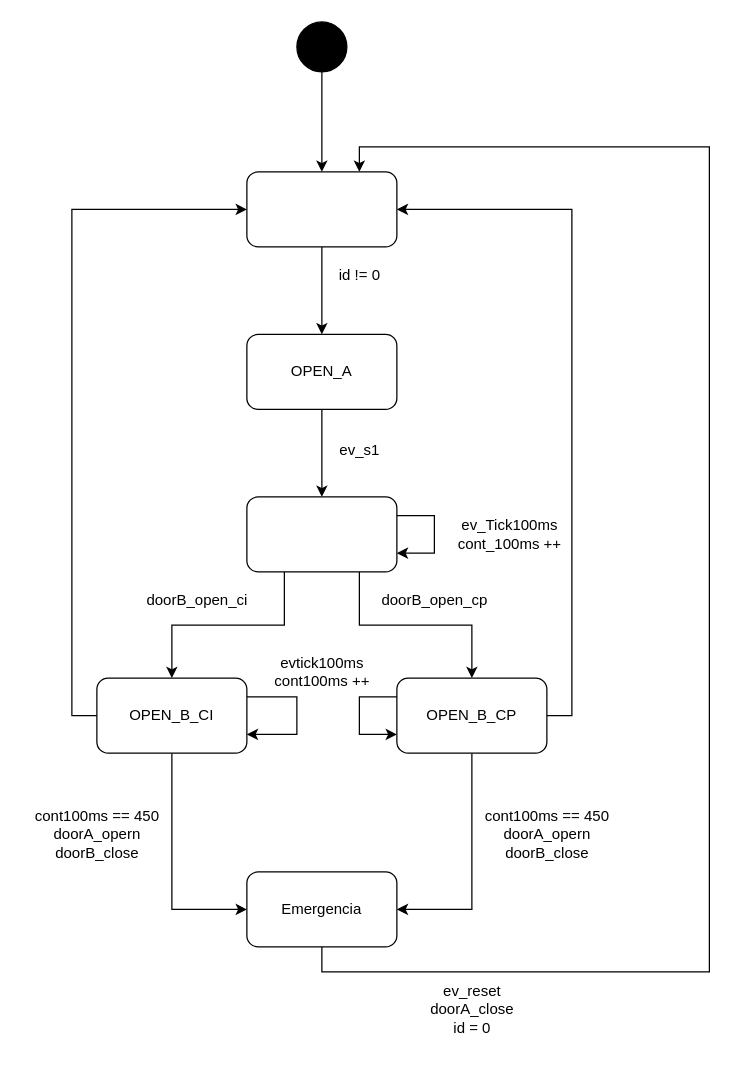
The diagram is 741 pixels wide and 1069 high, and some of its shapes have lost their labels. Each missing label, with the box of its shape:
IDLE: (246, 171, 397, 247)
WAIT_5seg: (246, 496, 397, 572)
